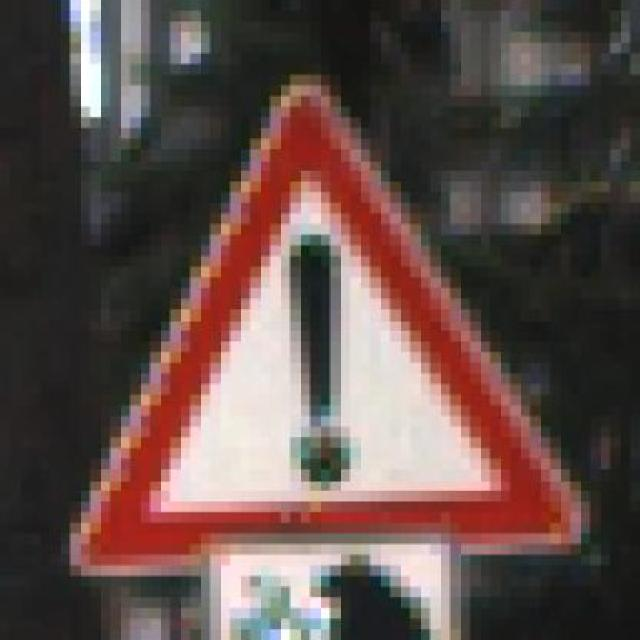Attention Please-: (40, 53, 580, 587)
